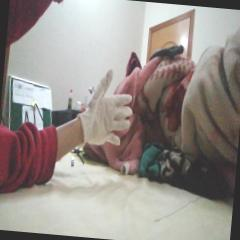gloved: (76, 66, 136, 146)
